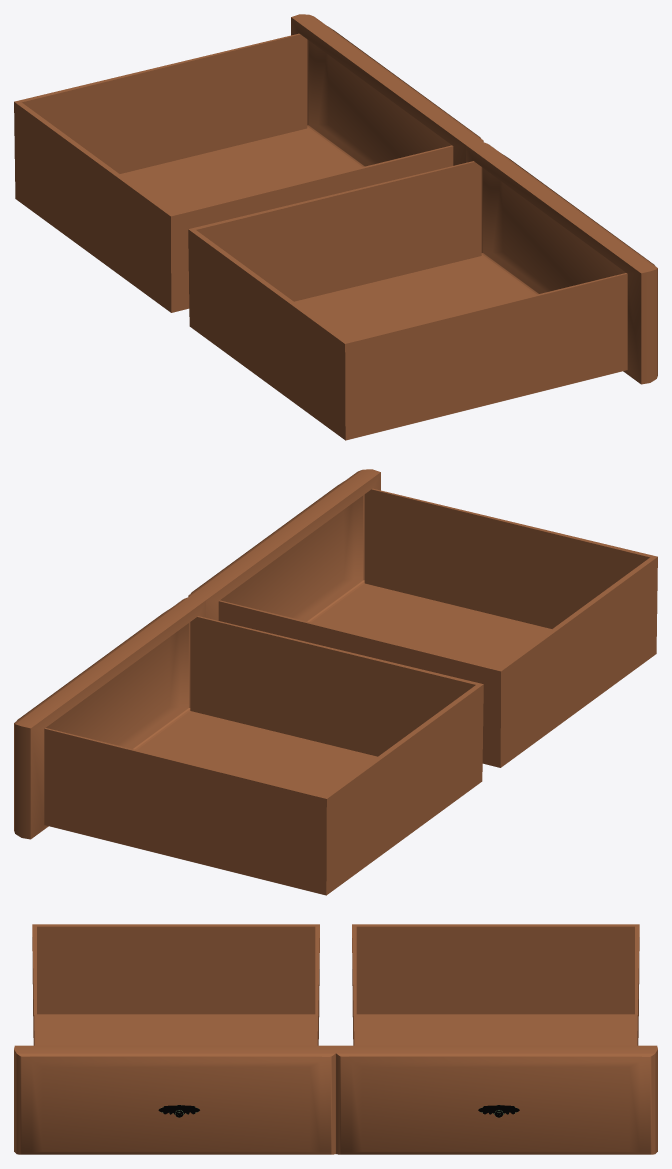
Rendered from chestofdrawersShelf.fbx.
3 renders of one model, top to bottom at view 1: azimuth 30°, elevation 25°; view 2: azimuth 150°, elevation 25°; view 3: azimuth 270°, elevation 25°, orthographic. The views are drawn at different scales.
Visible parts, largest first — view 1: Cylinder.001; view 2: Cylinder.001; view 3: Cylinder.001.
Part boxes in pixels (x1,y1,x2,y2): Cylinder.001: (14,14,657,440); Cylinder.001: (14,469,657,895); Cylinder.001: (14,924,657,1154).
Size of the model in its own units: 358 by 118 by 673.
